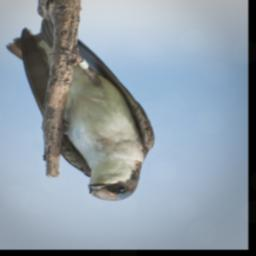Swallow: (4, 17, 155, 201)
